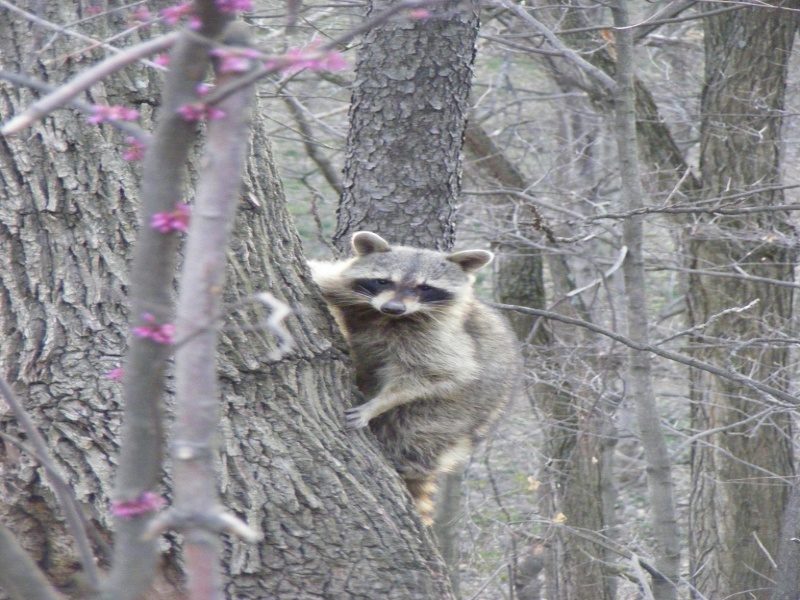raccoon: (303, 230, 524, 523)
